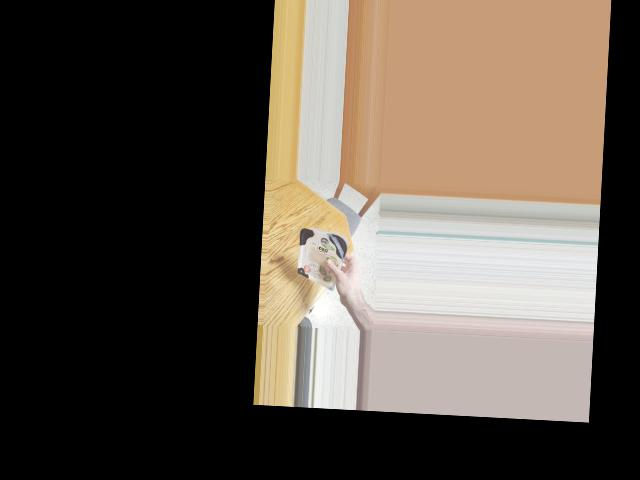cheese: (301, 226, 340, 286)
